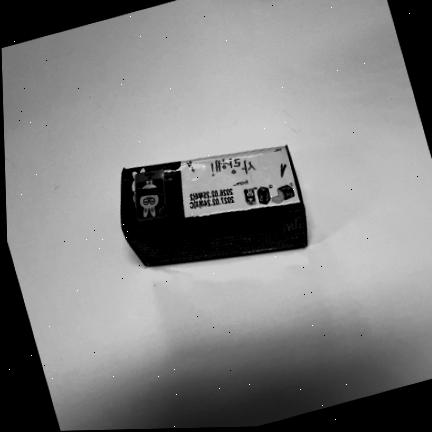cracker_ace: (121, 143, 307, 266)
